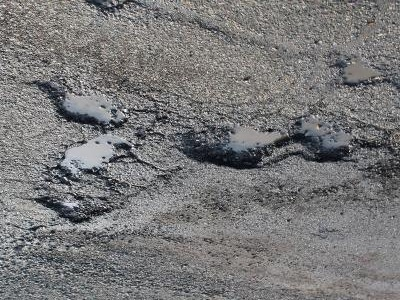pothole: (177, 117, 290, 172), (38, 77, 132, 130), (53, 136, 140, 182), (290, 110, 360, 165), (32, 190, 112, 226), (330, 53, 384, 90), (80, 0, 133, 14)
